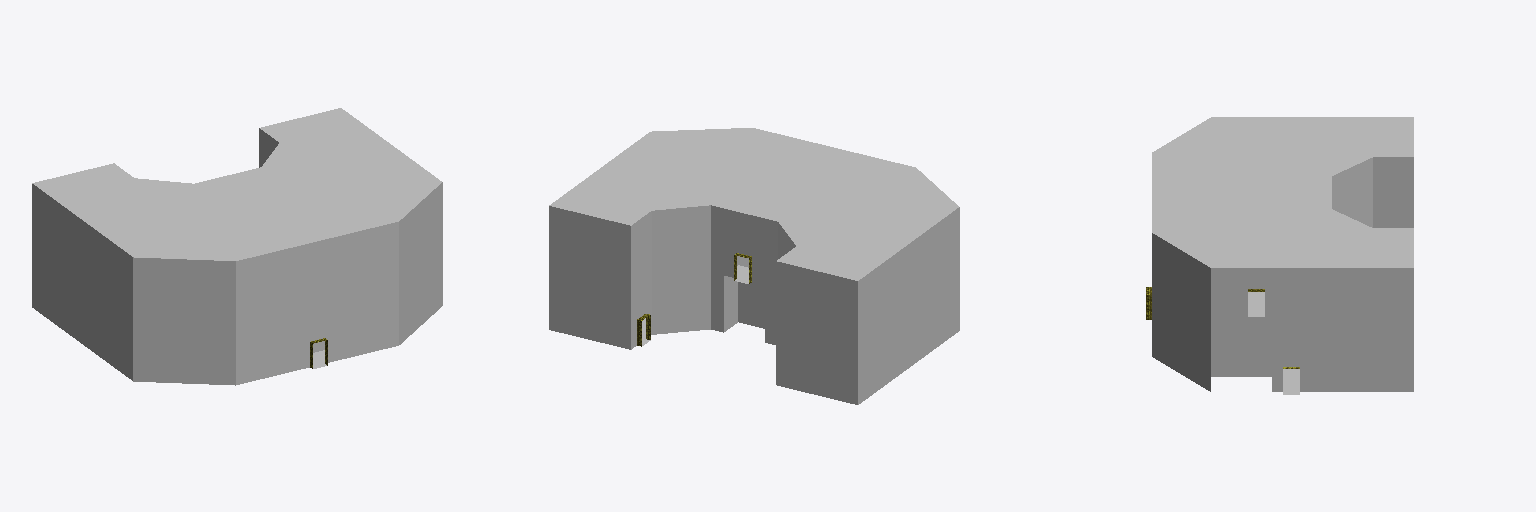
The picture shows the model from 3 angles: view 1: azimuth 30°, elevation 25°; view 2: azimuth 150°, elevation 25°; view 3: azimuth 270°, elevation 25°; orthographic projection.
Parts seen in each view (by area): view 1: Floor2#Room8; view 2: Floor2#Room8; view 3: Floor2#Room8.
Boxes of the visible parts, x1=… form: Floor2#Room8: x1=32, y1=108, x2=442, y2=385; Floor2#Room8: x1=549, y1=128, x2=959, y2=404; Floor2#Room8: x1=1146, y1=117, x2=1413, y2=391.
Size of the model in its own units: 1274 by 481 by 940.
4 materials, 1 textured.